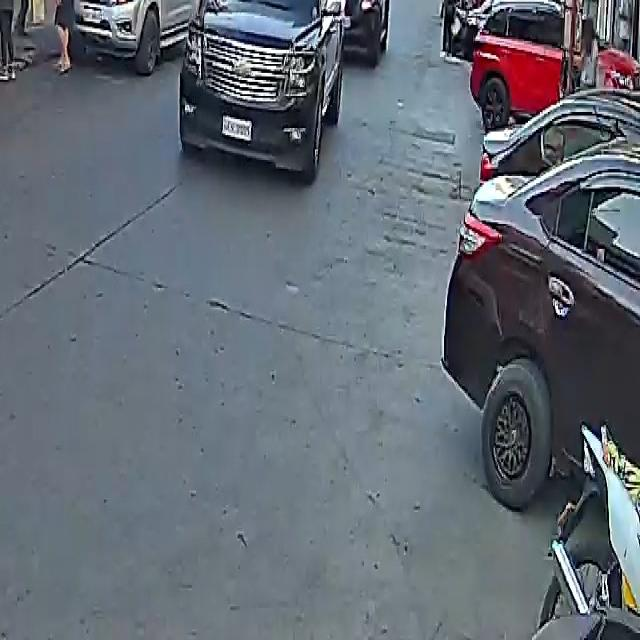car: (446, 73, 640, 528), (180, 0, 356, 178), (467, 0, 594, 128), (71, 0, 204, 75), (333, 0, 385, 68)
